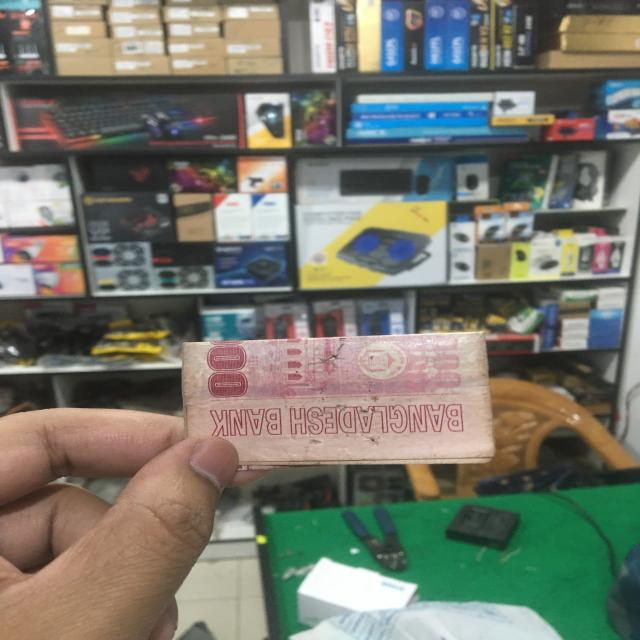Taka: (182, 332, 494, 460)
